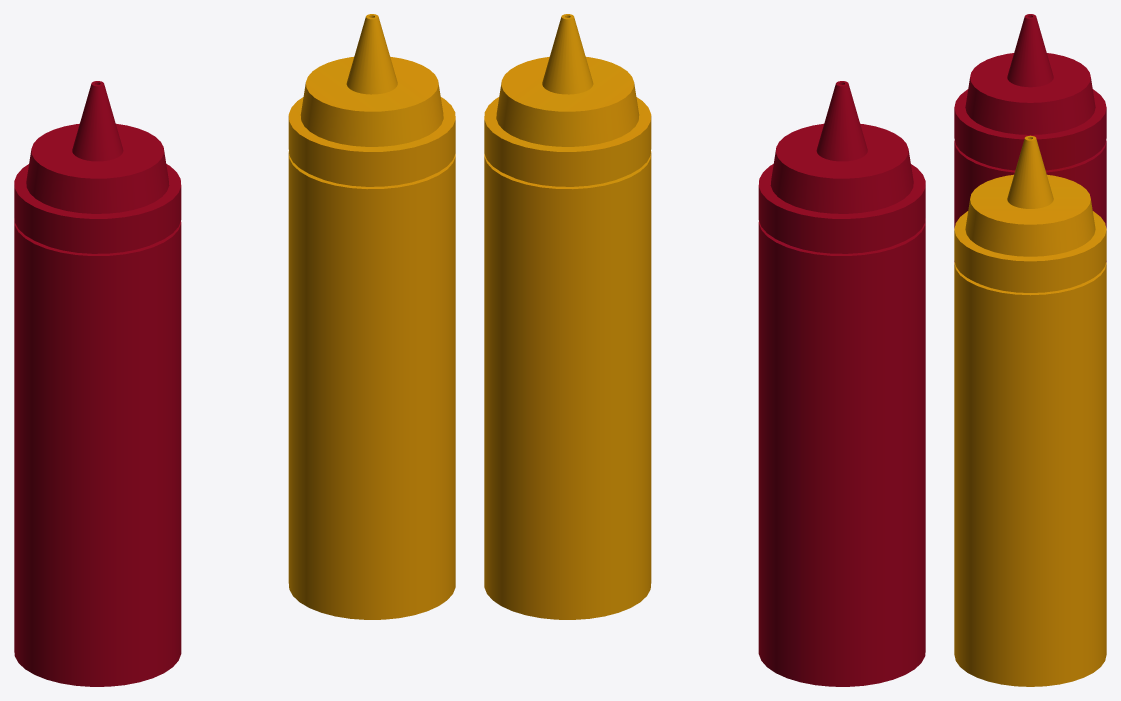
Rendered from Ketchup_and_Mustard.glb.
3 views of the same model, side by side, from view 1: azimuth 30°, elevation 25°; view 2: azimuth 150°, elevation 25°; view 3: azimuth 270°, elevation 25° (orthographic). The views are drawn at different scales.
Visible parts, largest first — view 1: Mustard_29, Ketchup_28; view 2: Mustard_29, Ketchup_28; view 3: Mustard_29, Ketchup_28.
Boxes of the visible parts, x1=… form: Mustard_29: x1=288, y1=14, x2=455, y2=619; Ketchup_28: x1=14, y1=81, x2=181, y2=686; Mustard_29: x1=484, y1=14, x2=651, y2=619; Ketchup_28: x1=758, y1=81, x2=925, y2=686; Mustard_29: x1=954, y1=135, x2=1106, y2=686; Ketchup_28: x1=954, y1=14, x2=1106, y2=262.
Size of the model in its own units: 232 by 300 by 80.11.
Materials: 1 (1 with a texture image).
